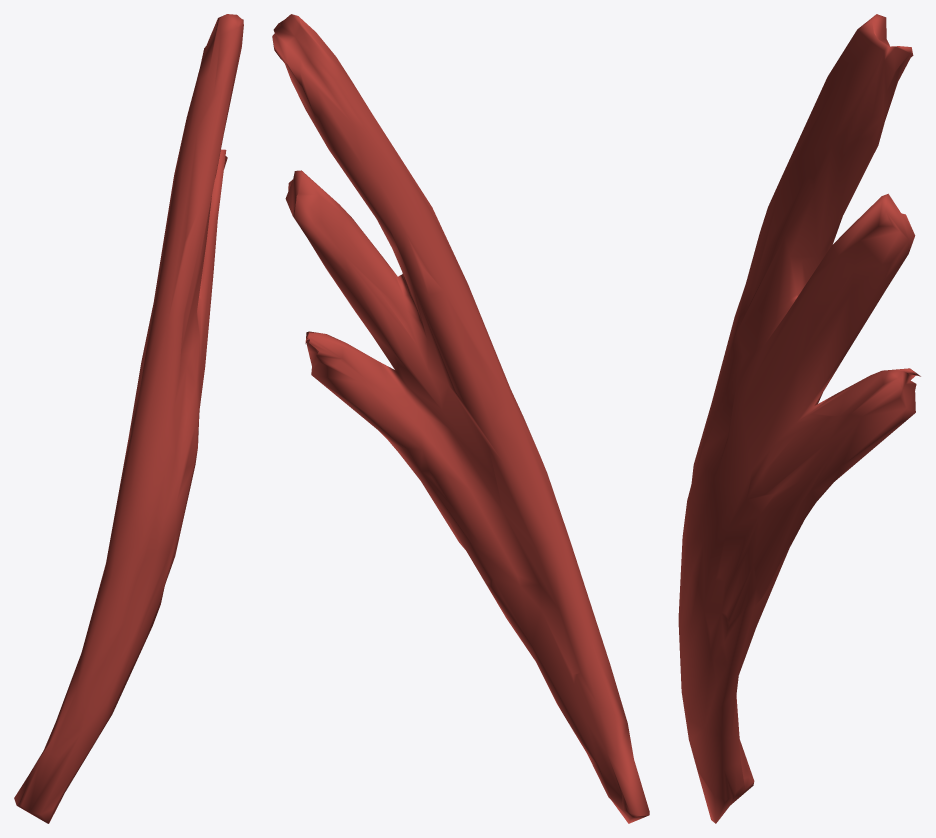
The model's file is musculos-scalenus-anterior-muscle-r.glb.
3 renders of one model, left to right at view 1: azimuth 30°, elevation 25°; view 2: azimuth 150°, elevation 25°; view 3: azimuth 270°, elevation 25°, orthographic. The views are drawn at different scales.
Visible parts, largest first — view 1: Scalenus anterior muscle.r; view 2: Scalenus anterior muscle.r; view 3: Scalenus anterior muscle.r.
Part boxes in pixels (<box>): Scalenus anterior muscle.r: <box>14,14,243,823</box>; Scalenus anterior muscle.r: <box>272,14,649,823</box>; Scalenus anterior muscle.r: <box>678,14,920,823</box>.
Bounding box in the file's own units: 0.0343 × 0.0828 × 0.0188.
